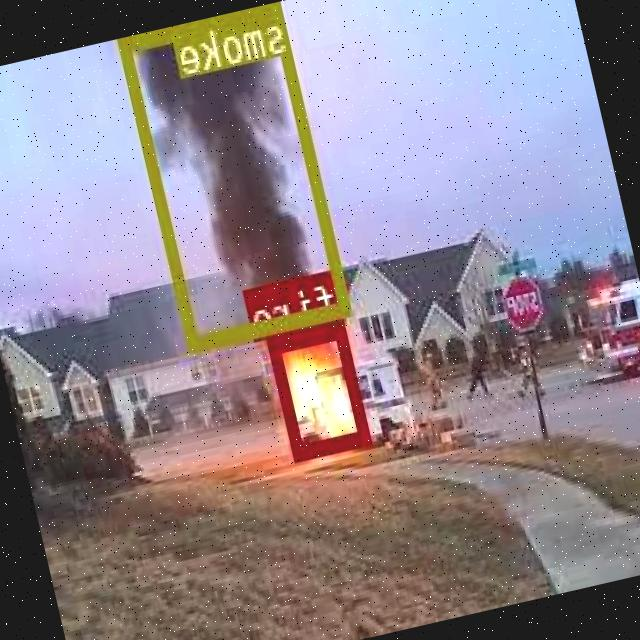fire: (270, 320, 374, 457)
smoke: (120, 1, 353, 347)
